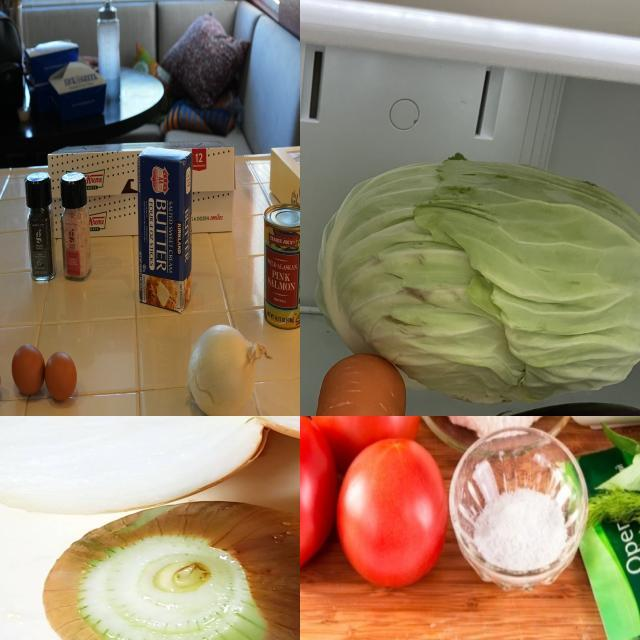bell_pepper: (23, 171, 61, 289)
cabbage: (313, 151, 640, 405)
carrot: (301, 351, 410, 417)
egg: (46, 352, 80, 409), (12, 342, 45, 398)
onion: (42, 501, 301, 640), (1, 417, 265, 514), (182, 322, 269, 417)
tomato: (335, 441, 444, 587), (301, 417, 333, 579), (318, 417, 423, 457)
